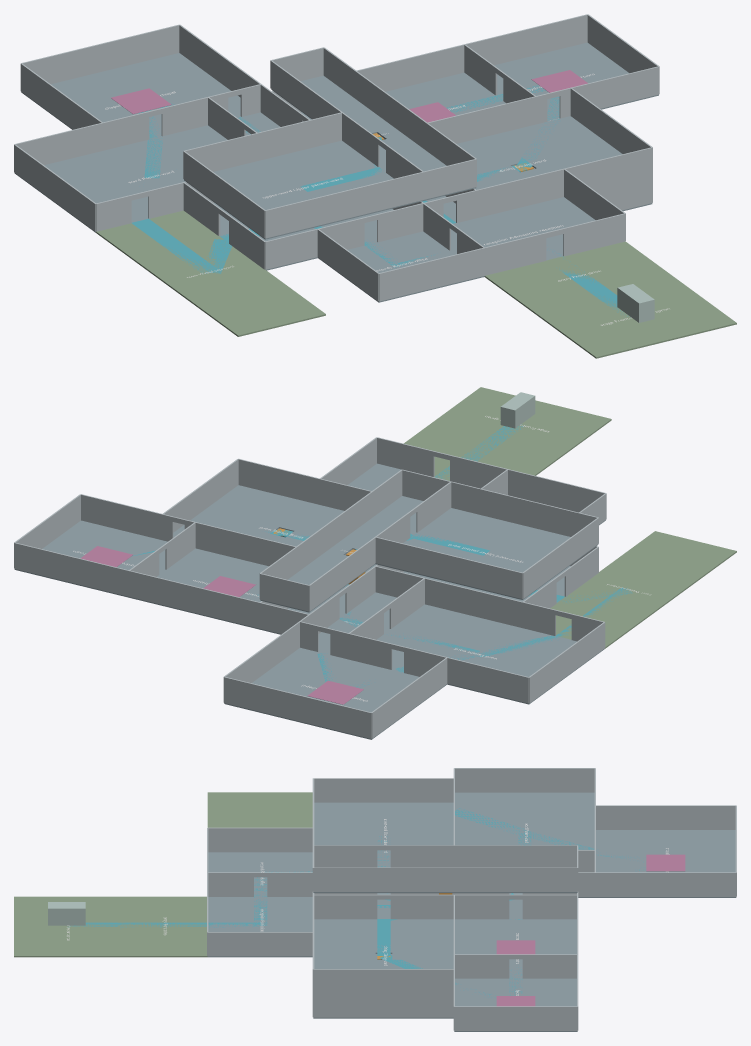
The model's file is rough-shell.glb.
3 renders of one model, top to bottom at view 1: azimuth 30°, elevation 25°; view 2: azimuth 150°, elevation 25°; view 3: azimuth 270°, elevation 25°, orthographic. The views are drawn at different scales.
Parts seen in each view (by area): view 1: Floor court, Floor stage, Floor ward, Floor entry, Floor upper-ward, Floor chapel, Wall upper-ward S, Wall chapel N, Wall upper-ward N, Wall upper E, Floor reception, Floor hydro (+55 smaller); view 2: Floor court, Floor ward, Floor stage, Floor upper-ward, Floor chapel, Wall chapel N, Wall upper-ward N, Wall upper-ward S, Wall day N, Wall upper E, Wall treatment N, Floor hydro (+47 smaller); view 3: Floor ward, Wall upper E, Floor upper-ward, Floor stage, Floor chapel, Floor entry, Wall upper W, Floor treatment, Floor reception, Floor court, Wall chapel E, Wall dining E (+33 smaller).
Boxes of the visible parts, x1,y1,x2,y2 form: Floor court: [96, 210, 325, 336]; Floor stage: [535, 278, 736, 358]; Floor ward: [14, 125, 227, 232]; Floor entry: [484, 241, 675, 313]; Floor upper-ward: [184, 140, 423, 239]; Floor chapel: [21, 53, 240, 138]; Wall upper-ward S: [265, 172, 423, 238]; Wall chapel N: [21, 24, 179, 83]; Wall upper-ward N: [184, 112, 342, 171]; Wall upper E: [323, 47, 476, 186]; Floor reception: [450, 197, 595, 260]; Floor hydro: [494, 42, 658, 121]; Floor court: [550, 531, 736, 648]; Floor ward: [376, 604, 604, 704]; Floor stage: [424, 387, 611, 461]; Floor upper-ward: [375, 508, 598, 599]; Floor chapel: [224, 647, 447, 739]; Wall chapel N: [224, 676, 371, 738]; Wall upper-ward N: [375, 537, 522, 598]; Wall upper-ward S: [451, 481, 598, 536]; Wall day N: [375, 566, 522, 627]; Wall upper E: [259, 469, 402, 598]; Wall treatment N: [129, 570, 259, 628]; Floor hydro: [14, 520, 167, 597]; Floor ward: [455, 792, 594, 849]; Wall upper E: [313, 867, 577, 891]; Floor upper-ward: [314, 802, 453, 867]; Floor stage: [14, 896, 119, 957]; Floor chapel: [595, 830, 736, 897]; Floor entry: [119, 896, 207, 957]; Wall upper W: [390, 845, 577, 867]; Floor treatment: [455, 919, 576, 978]; Floor reception: [207, 896, 312, 957]; Floor court: [207, 792, 312, 827]; Wall chapel E: [595, 872, 736, 896]; Wall dining E: [313, 969, 453, 993].
Size of the model in its own units: 64.16 by 9.56 by 82.08.
